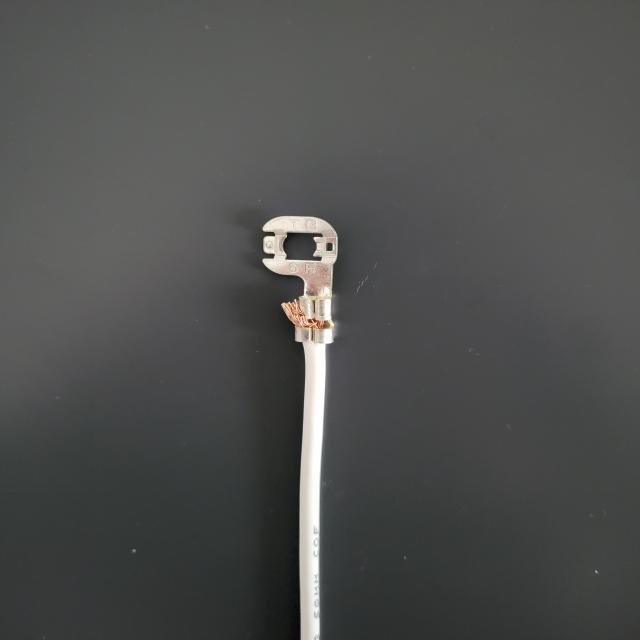defect: (261, 284, 349, 365)
